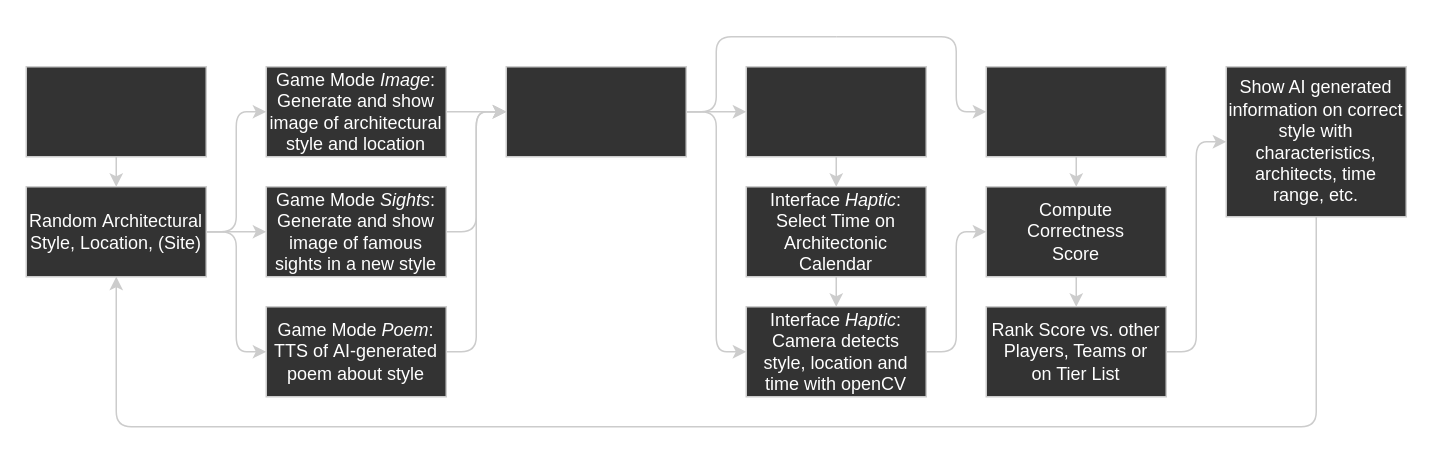
Image size: 1433x465. Some labels were removed from this diagram. Each missing label, with the centre of its shape:
"Interface Haptic : Select & place 3D printed Object for Style (& Site) on Map" belongs at (835,111).
"Interface Online : User selects Style, Location, Time, (Site) in GUI" belongs at (1075,111).
"Select Game mode: Image | Sights | Poem Interface: Haptic | Online" belongs at (115,111).
"User guesses: Style, Location, Time, (Site)" belongs at (595,111).
